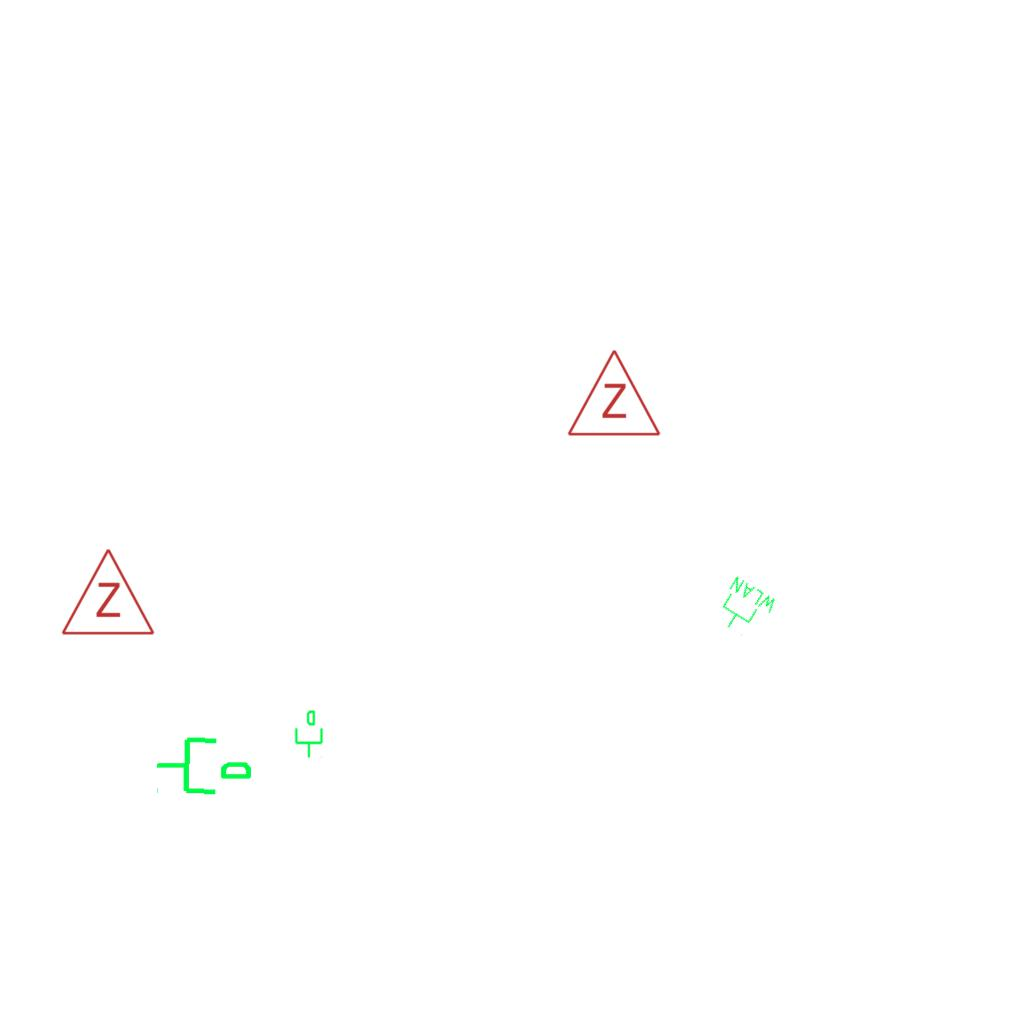Datenanschluss_einfach: (153, 728, 256, 800), (291, 709, 325, 759)
WLAN: (709, 573, 781, 645)
Zimmersignalleuchte: (564, 343, 662, 443), (58, 542, 156, 642)
